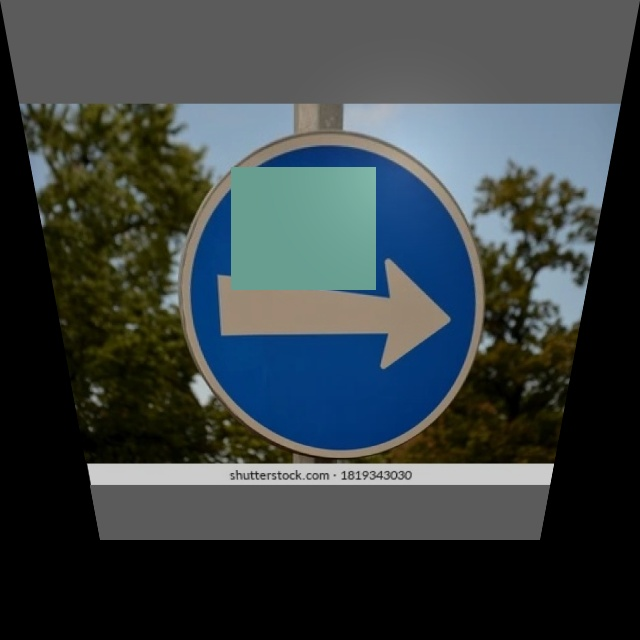Compulsory_Turn_Right: (170, 130, 495, 451)
